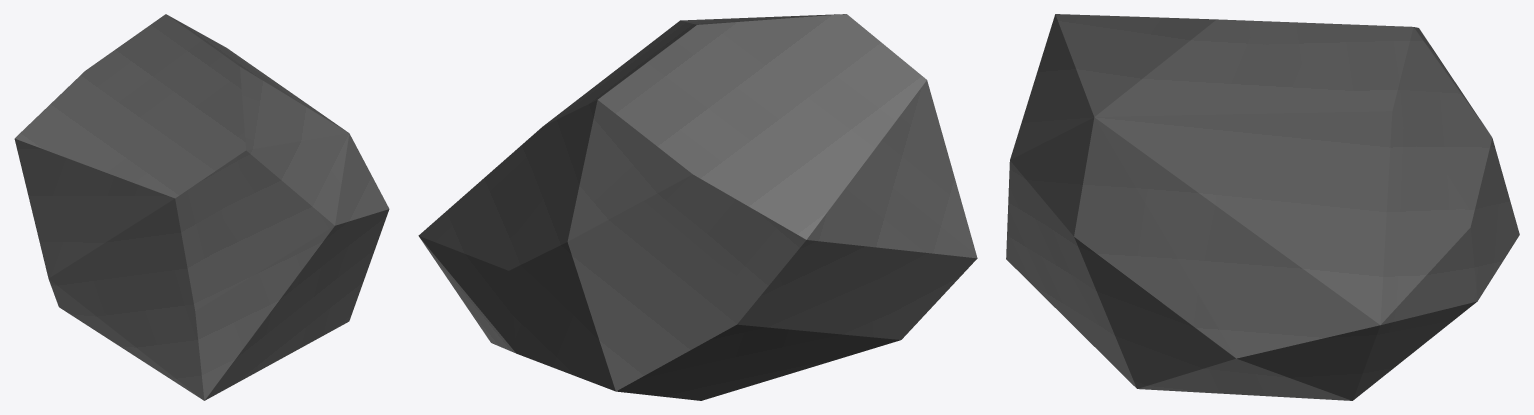
File: rocha_media.glb
3 renders of one model, left to right at view 1: azimuth 30°, elevation 25°; view 2: azimuth 150°, elevation 25°; view 3: azimuth 270°, elevation 25°, orthographic. The views are drawn at different scales.
Parts seen in each view (by area): view 1: RockNormD; view 2: RockNormD; view 3: RockNormD.
Boxes of the visible parts, x1=… form: RockNormD: x1=14, y1=14, x2=389, y2=400; RockNormD: x1=418, y1=14, x2=977, y2=400; RockNormD: x1=1006, y1=14, x2=1519, y2=400.
Size of the model in its own units: 1.02 by 0.6631 by 0.9623.
1 material, 1 textured.
